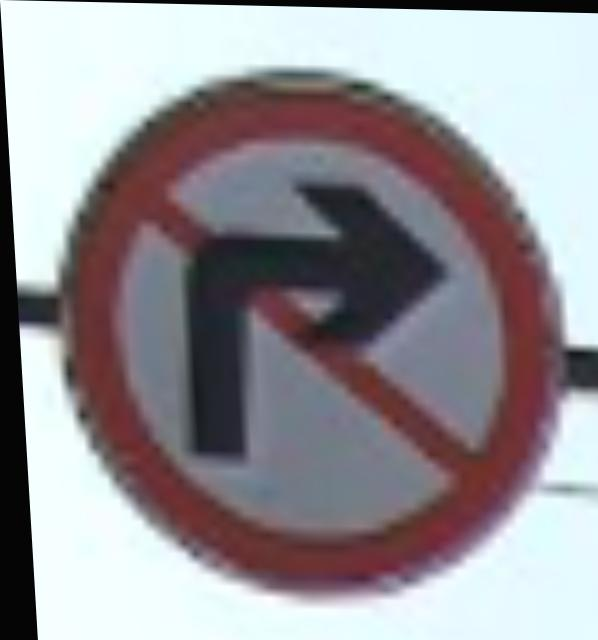not_turn_right: (40, 55, 579, 605)
